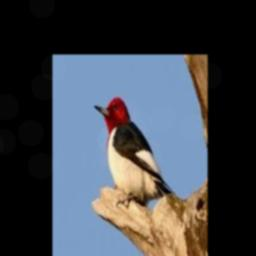Woodpecker: (94, 97, 171, 201)
